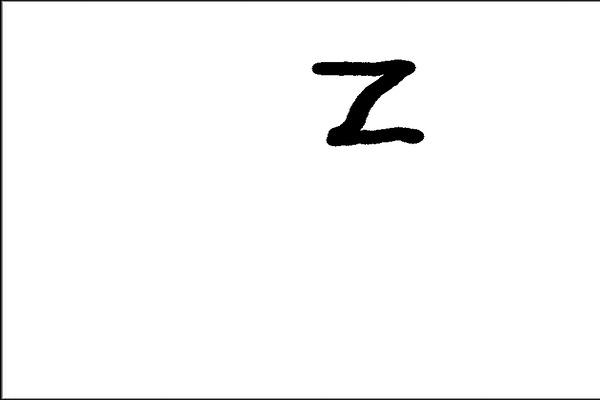Z: (304, 53, 431, 150)
